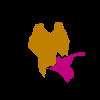maglia: (28, 22, 70, 78)
pantaloni: (46, 51, 84, 83)
